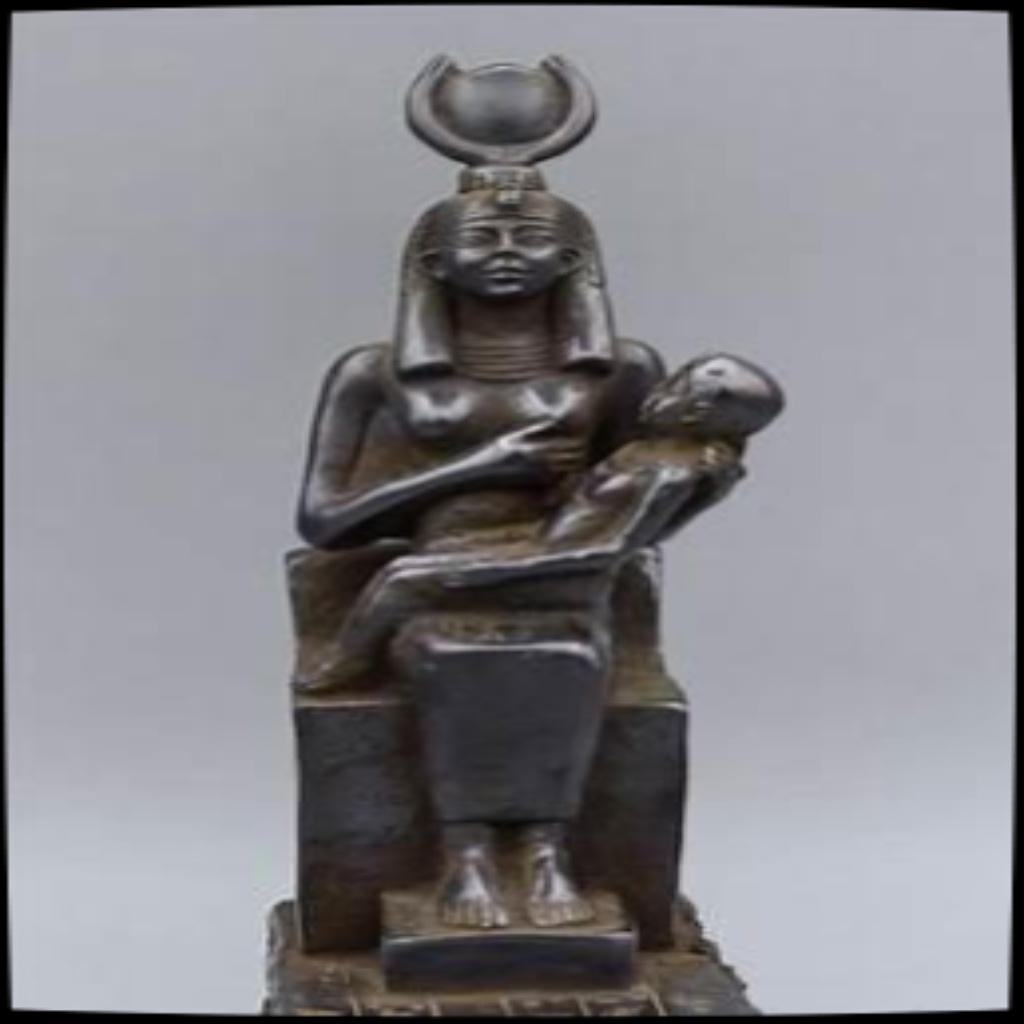Isis with her child: (250, 45, 794, 1013)
